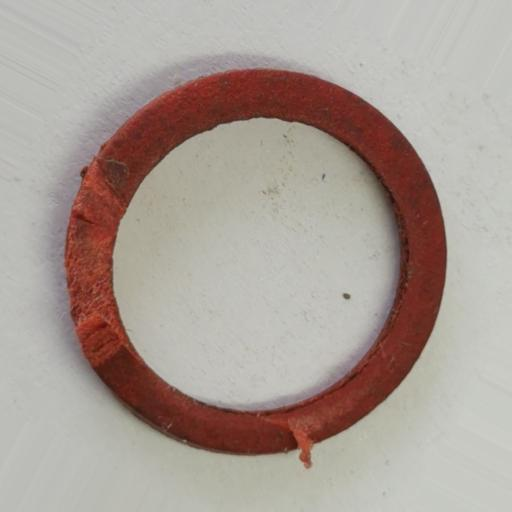defect: (63, 155, 126, 369), (254, 411, 317, 470)
